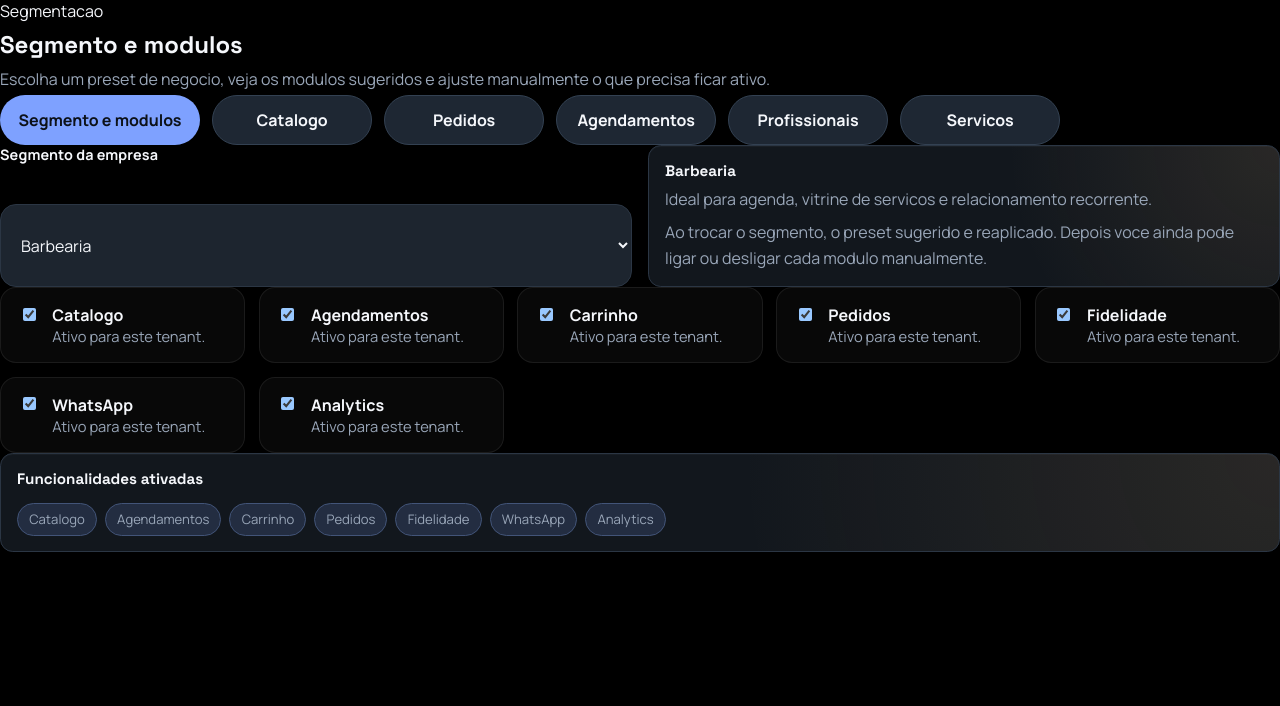
Test: TenantModuleManagementSection › shows only tabs for active modules and filters inboxes by status
The image size is (1280, 706).
Expected: the button "Agendamentos" is shown, [556, 95, 716, 145]
Click the button "Pedidos" at x=464, y=120, box [384, 95, 544, 145]
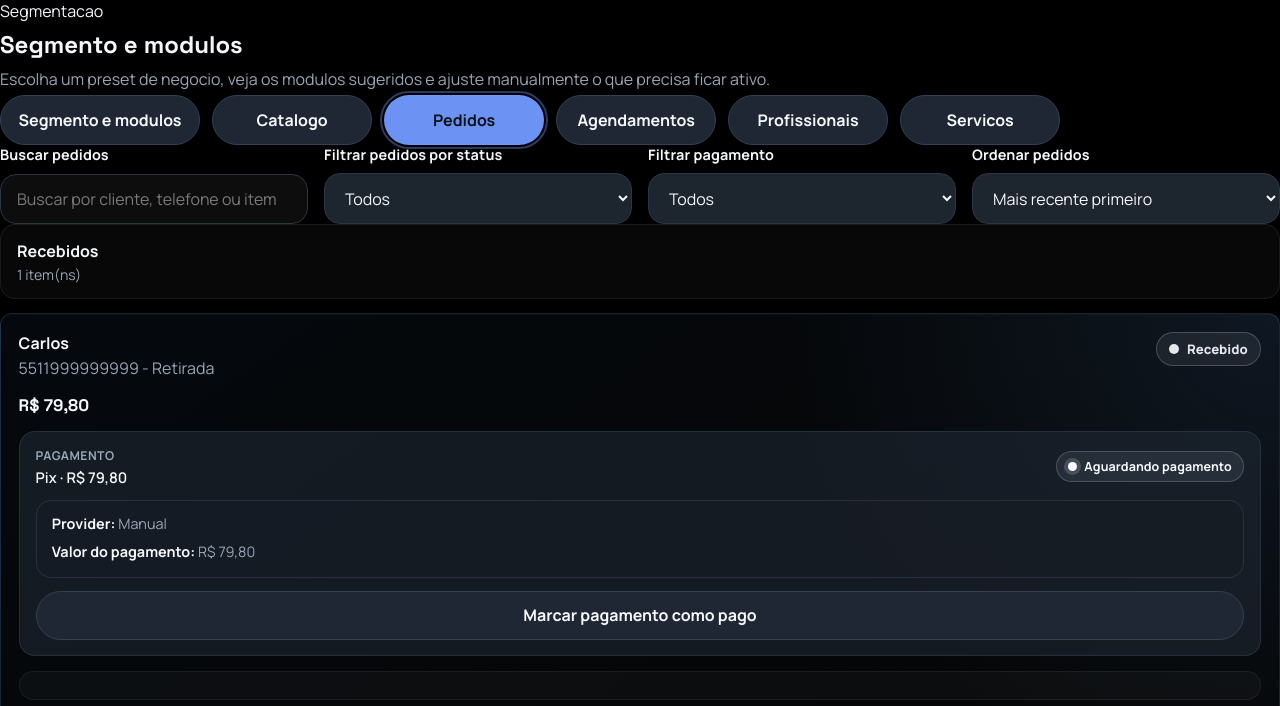
Select "Prontos" in the dropdown labelled "Filtrar pedidos por status" at x=478, y=199, box [324, 173, 632, 224]
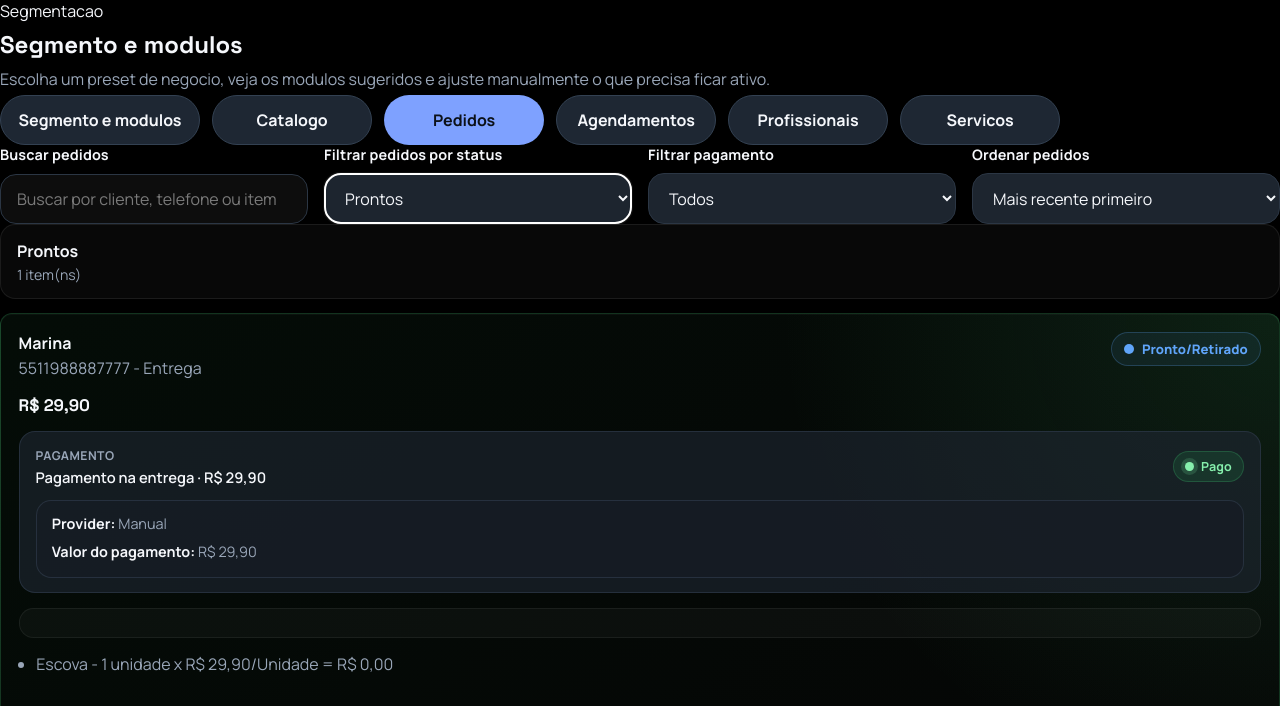
Now the text "Marina" is shown, box [19, 332, 72, 354]
Now the text "R$ 29,90" is shown, box [19, 394, 90, 416]
Now the text "Carlos" is gone
Click the button "Agendamentos" at x=636, y=120, box [556, 95, 716, 145]
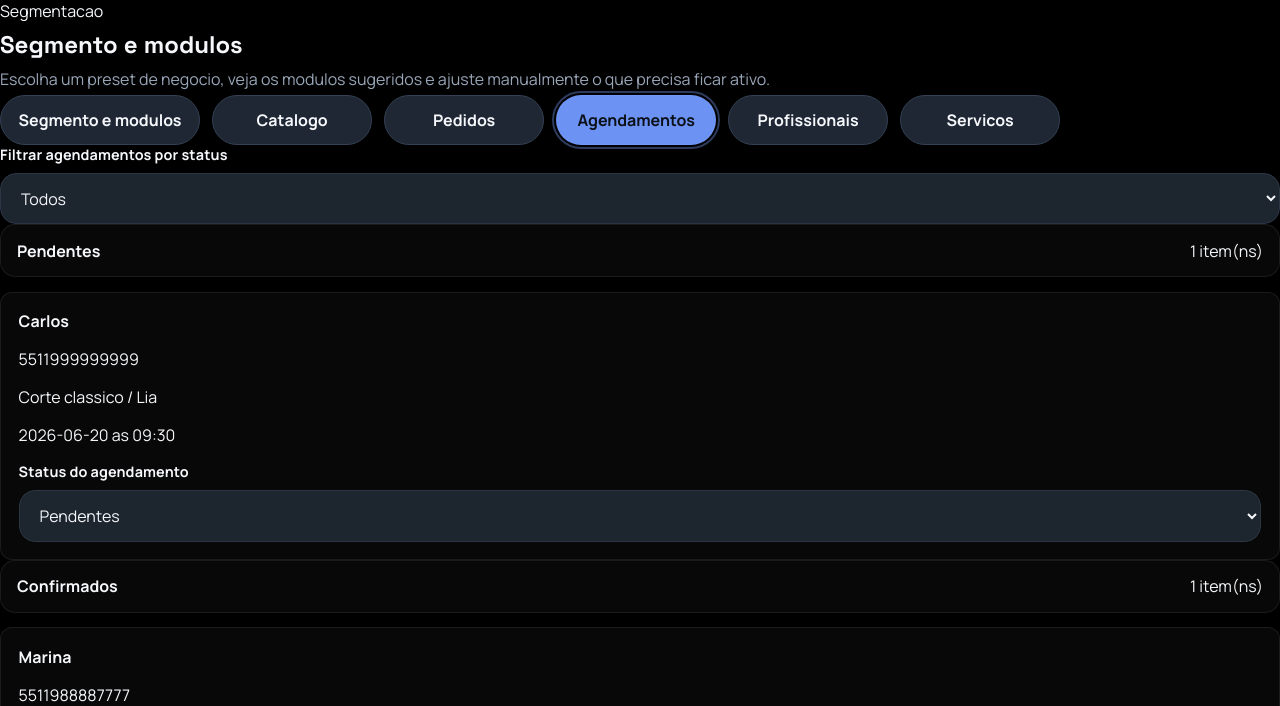
Select "Confirmados" in the dropdown labelled "Filtrar agendamentos por status" at x=640, y=199, box [0, 173, 1279, 224]
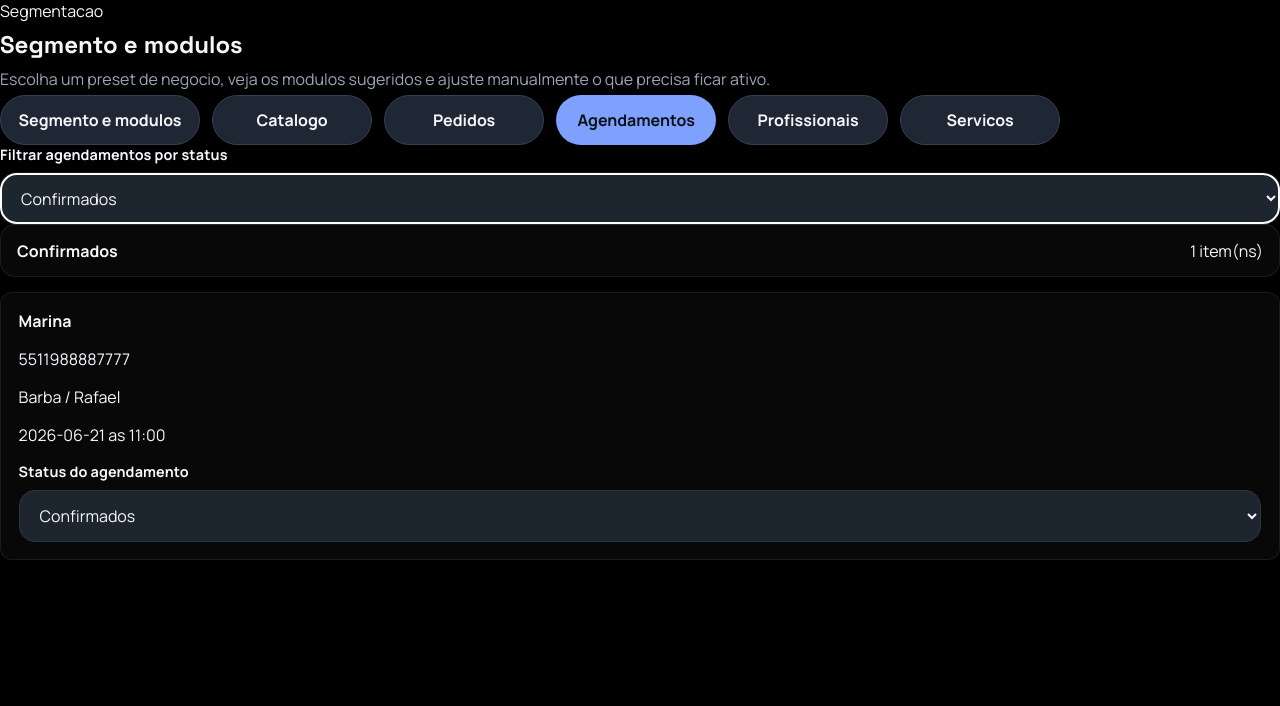
Now the text "5511988887777" is shown, box [19, 348, 130, 370]
Now the text "5511999999999" is gone
